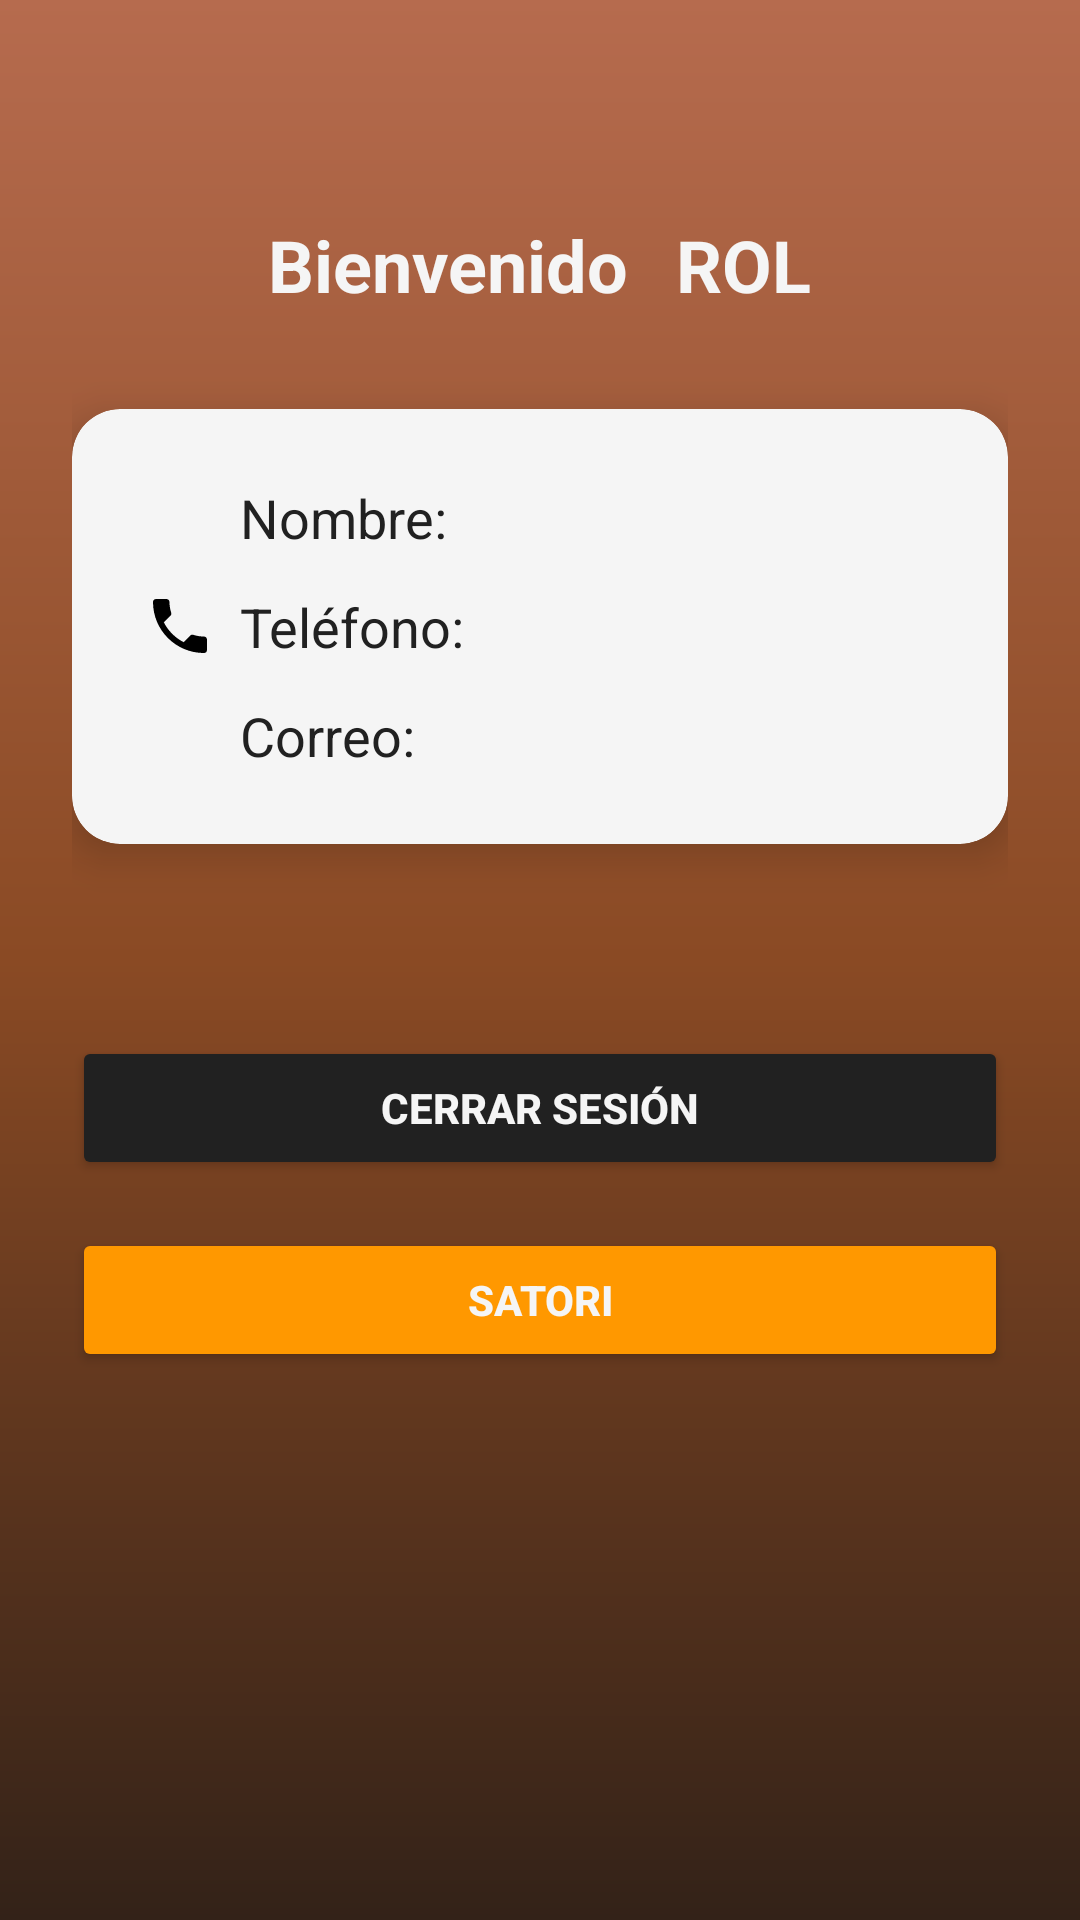

Screen size 1080x1920. Icon name, then its box in pixels as (x1, y1, x2, y2):
phone: (153, 599, 207, 653)
